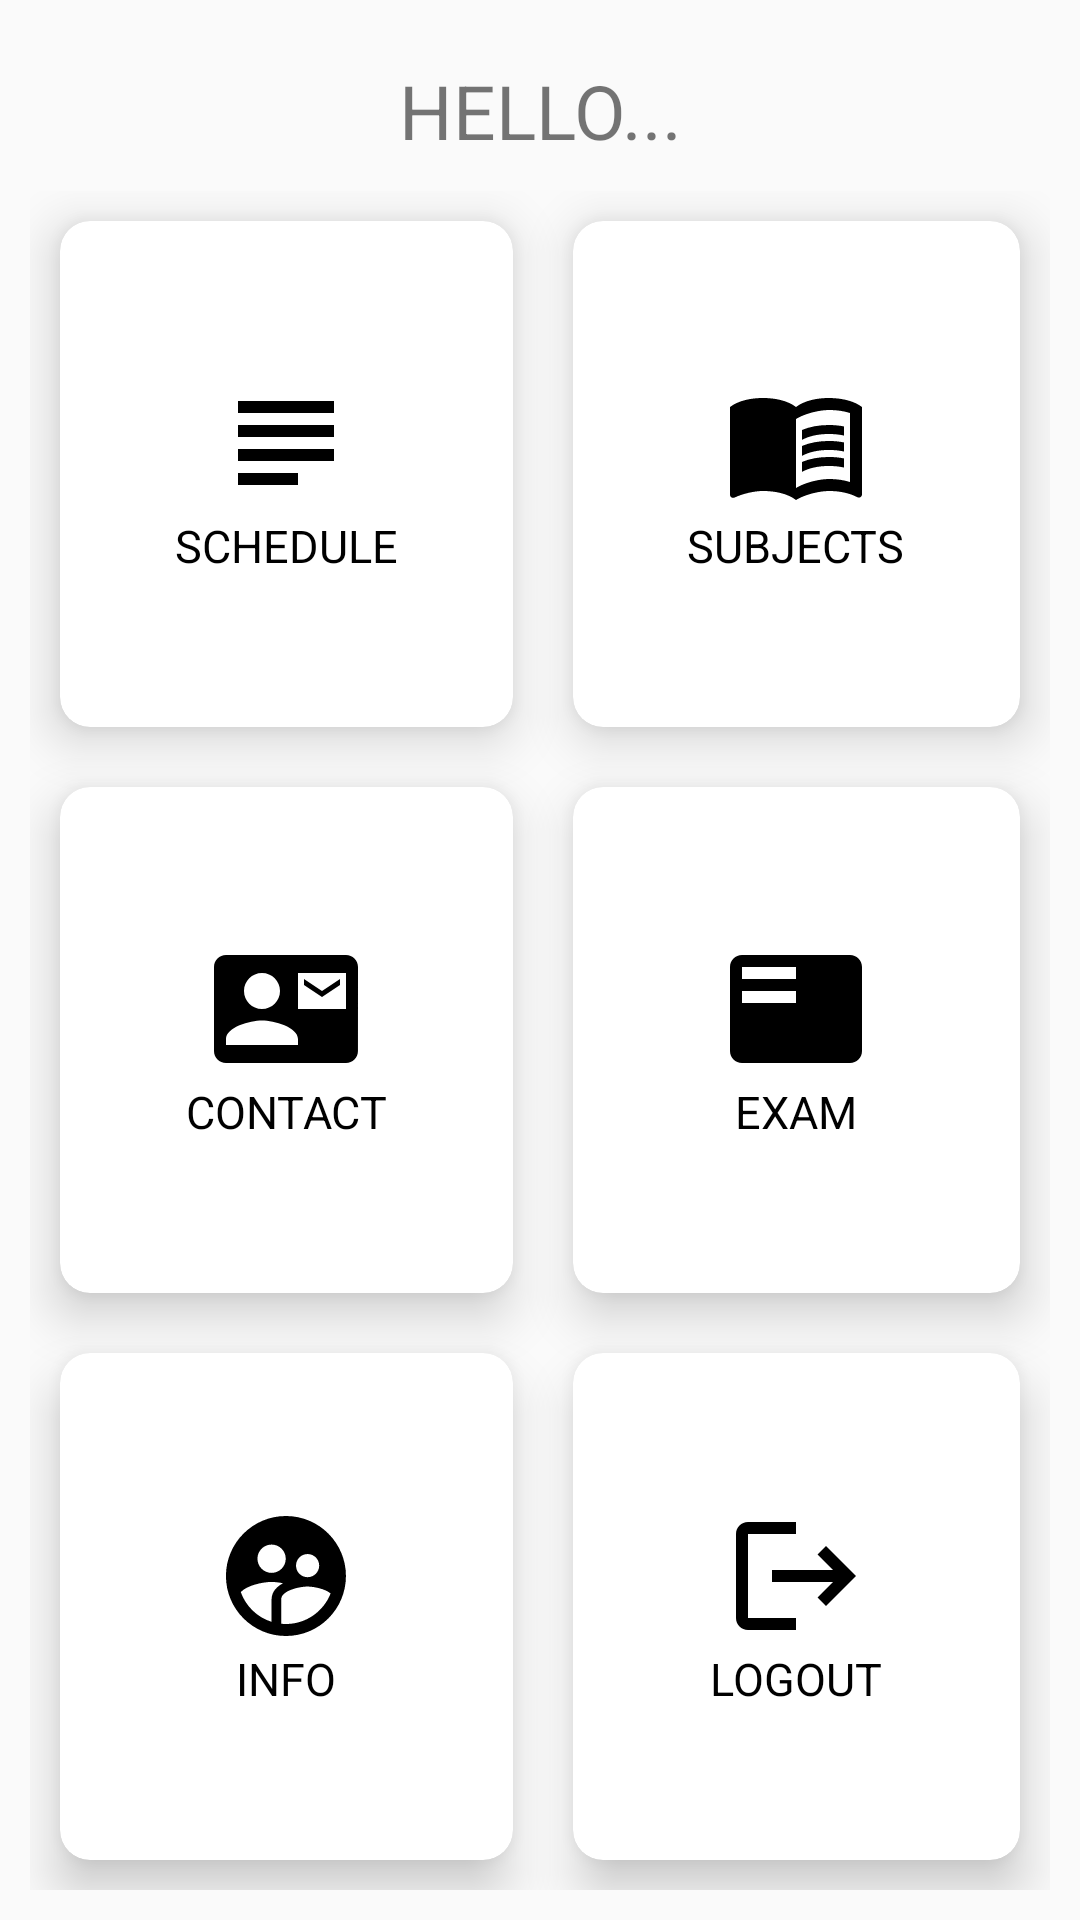

Icon bounding boxes for this 1080*1920 phone screenshot, format Rect(x1, y1, x2, y2):
book: Rect(730, 398, 862, 500)
featured play list: Rect(730, 955, 862, 1063)
subject: Rect(238, 401, 334, 485)
supervised user circle: Rect(226, 1516, 346, 1636)
